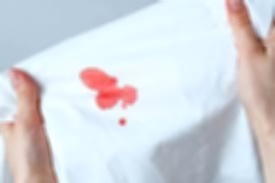blood: (80, 68, 138, 110), (119, 118, 127, 126)
